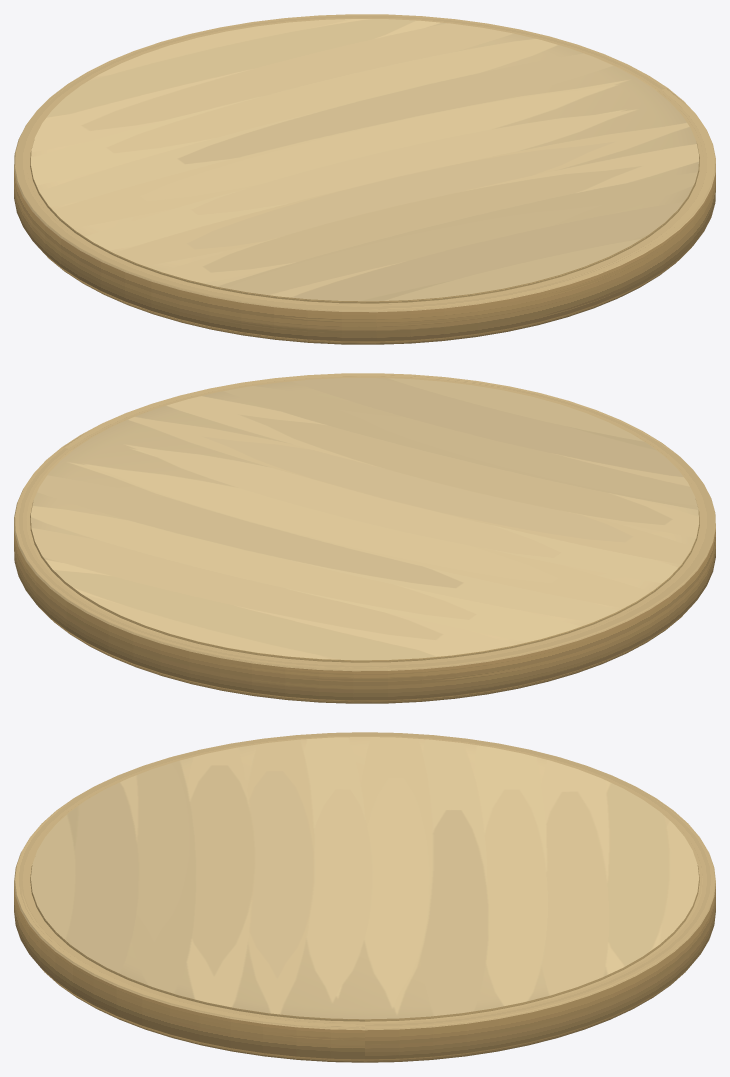
File: step_platform_meshopt.glb
3 views of the same model, one above another, from view 1: azimuth 30°, elevation 25°; view 2: azimuth 150°, elevation 25°; view 3: azimuth 270°, elevation 25° (orthographic).
Visible parts, largest first — view 1: step_platform; view 2: step_platform; view 3: step_platform.
Boxes of the visible parts, <box> form: step_platform: <box>14,14,715,344</box>; step_platform: <box>14,373,715,703</box>; step_platform: <box>14,732,715,1062</box>.
Size of the model in its own units: 0.5 by 0.03 by 0.5.
Materials: 1 (1 with a texture image).
